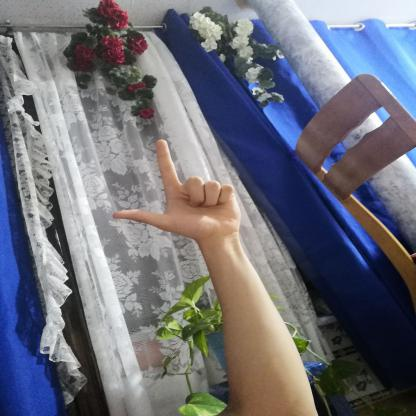LAAM: (98, 130, 252, 246)
